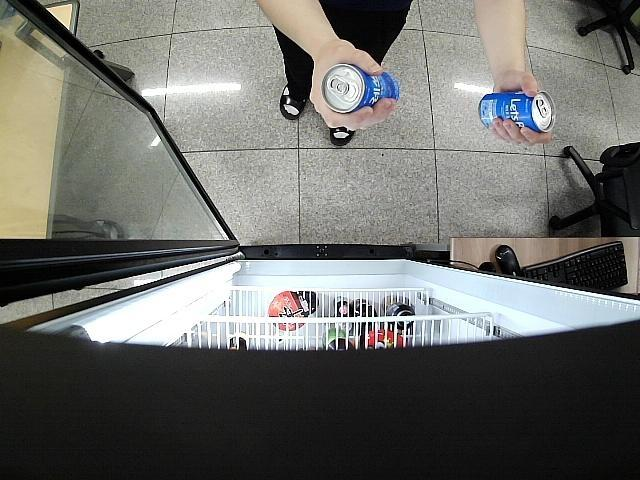15_letsbe: (323, 64, 398, 113), (480, 92, 555, 134)
